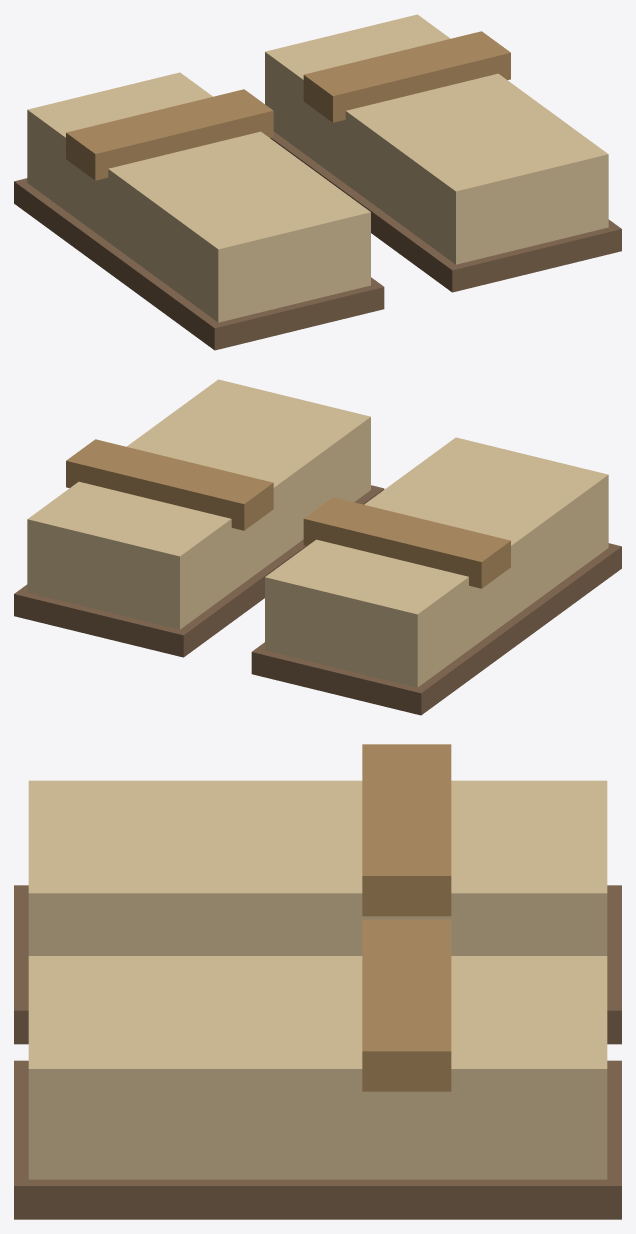
Rendered from sand_shoes.glb.
3 views of the same model, one above another, from view 1: azimuth 30°, elevation 25°; view 2: azimuth 150°, elevation 25°; view 3: azimuth 270°, elevation 25° (orthographic). The views are drawn at different scales.
Parts seen in each view (by area): view 1: sand_shoes; view 2: sand_shoes; view 3: sand_shoes.
Part boxes in pixels (x1,y1,x2,y2): sand_shoes: (14, 14, 621, 350); sand_shoes: (14, 379, 621, 715); sand_shoes: (14, 744, 621, 1219).
Size of the model in its own units: 0.98 by 0.255 by 0.82.
